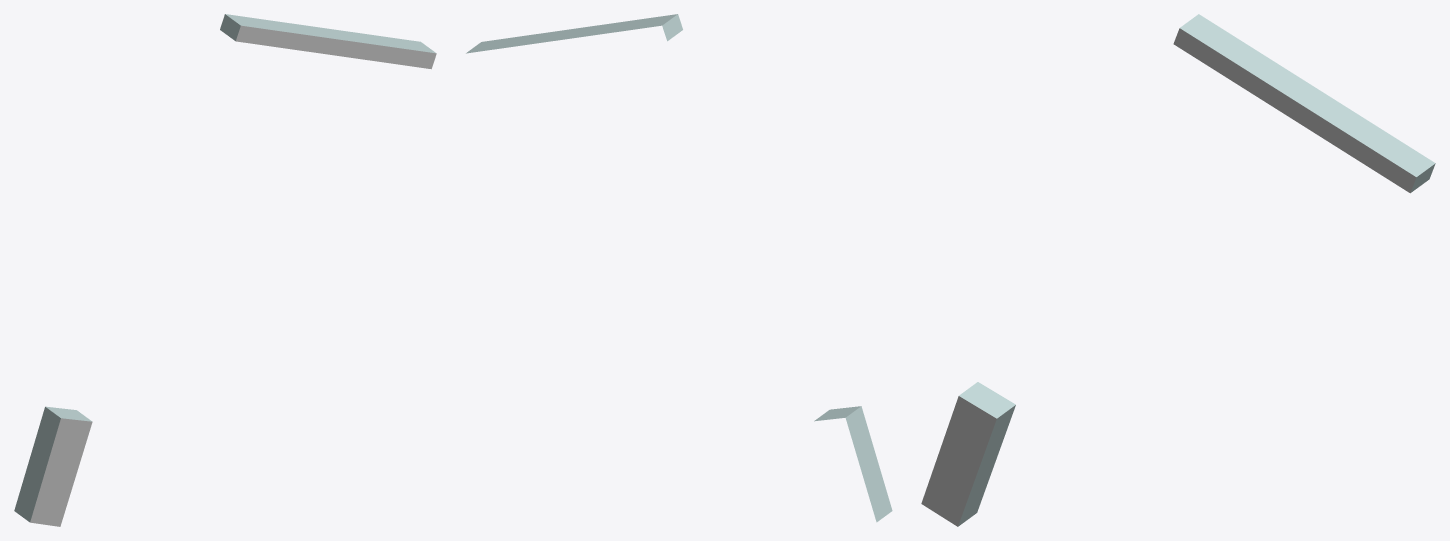
3 renders of one model, left to right at view 1: azimuth 30°, elevation 25°; view 2: azimuth 150°, elevation 25°; view 3: azimuth 330°, elevation 25°, orthographic. The views are drawn at different scales.
Parts seen in each view (by area): view 1: 0_3_1_2_3_2_3_0_0; view 2: 0_3_1_2_3_2_3_0_0; view 3: 0_3_1_2_3_2_3_0_0.
Boxes of the visible parts, x1,y1,x2,y2 form: 0_3_1_2_3_2_3_0_0: [14, 14, 436, 526]; 0_3_1_2_3_2_3_0_0: [466, 14, 892, 522]; 0_3_1_2_3_2_3_0_0: [921, 14, 1435, 526].
Bounding box in the file's own units: 44.47 × 47.47 × 3.27.
